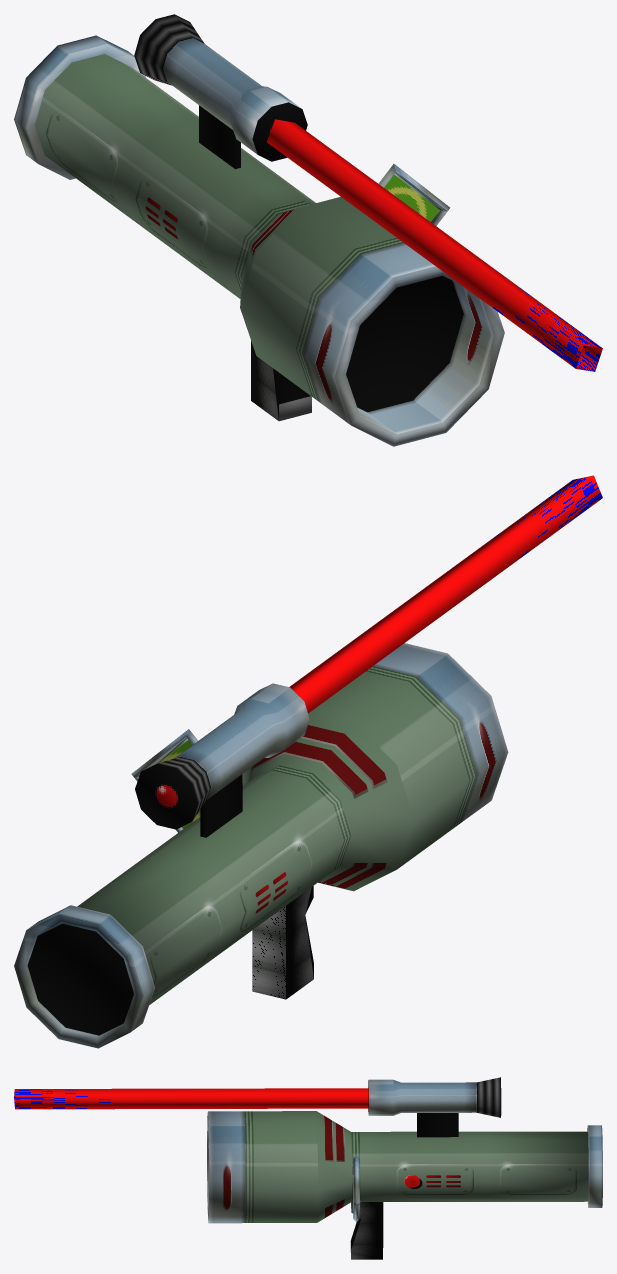
File: Bazooka.obj
3 renders of one model, top to bottom at view 1: azimuth 30°, elevation 25°; view 2: azimuth 150°, elevation 25°; view 3: azimuth 270°, elevation 25°, orthographic. The views are drawn at different scales.
Visible parts, largest first — view 1: DrawCall_24; view 2: DrawCall_24; view 3: DrawCall_24.
Boxes of the visible parts, box(x1,y1,x2,y2) form: DrawCall_24: box(14, 14, 602, 446); DrawCall_24: box(14, 475, 602, 1048); DrawCall_24: box(14, 1077, 602, 1259).
Size of the model in its own units: 19.11 by 22.6 by 68.85.
15 materials, 14 textured.
